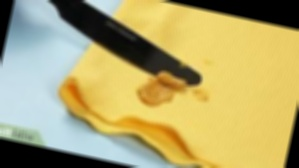mustard: (142, 68, 187, 111), (191, 85, 209, 104)
